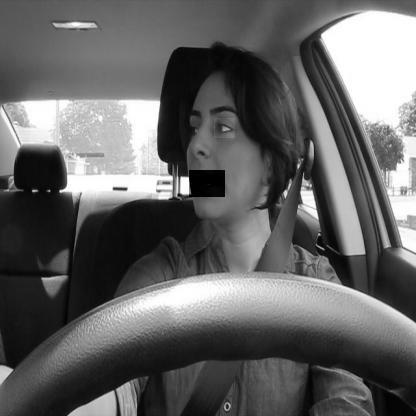seatbelt: (166, 34, 310, 416)
